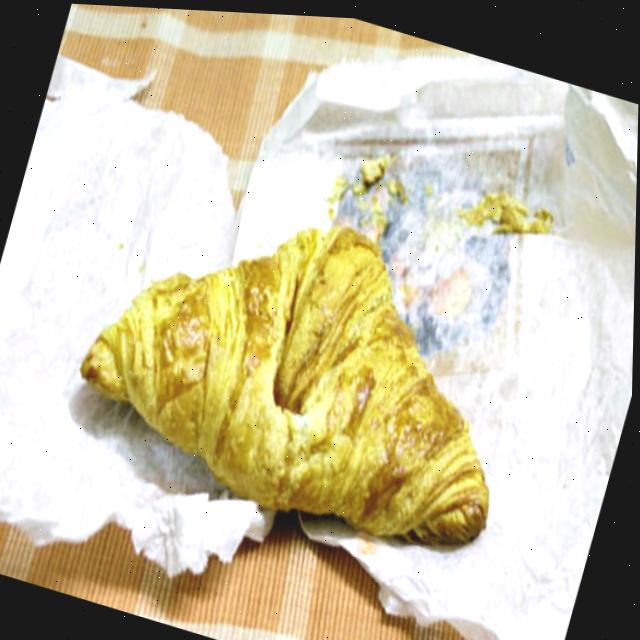面包点心: (46, 128, 573, 580)
